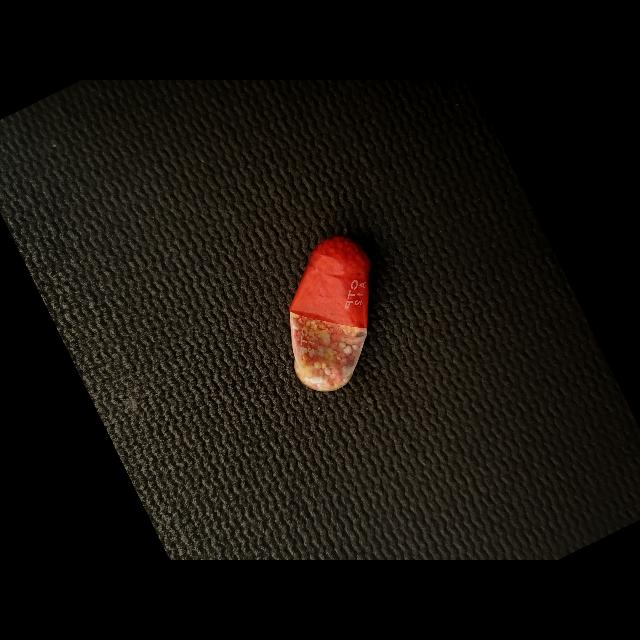Defective Capsule: (289, 236, 371, 392)
